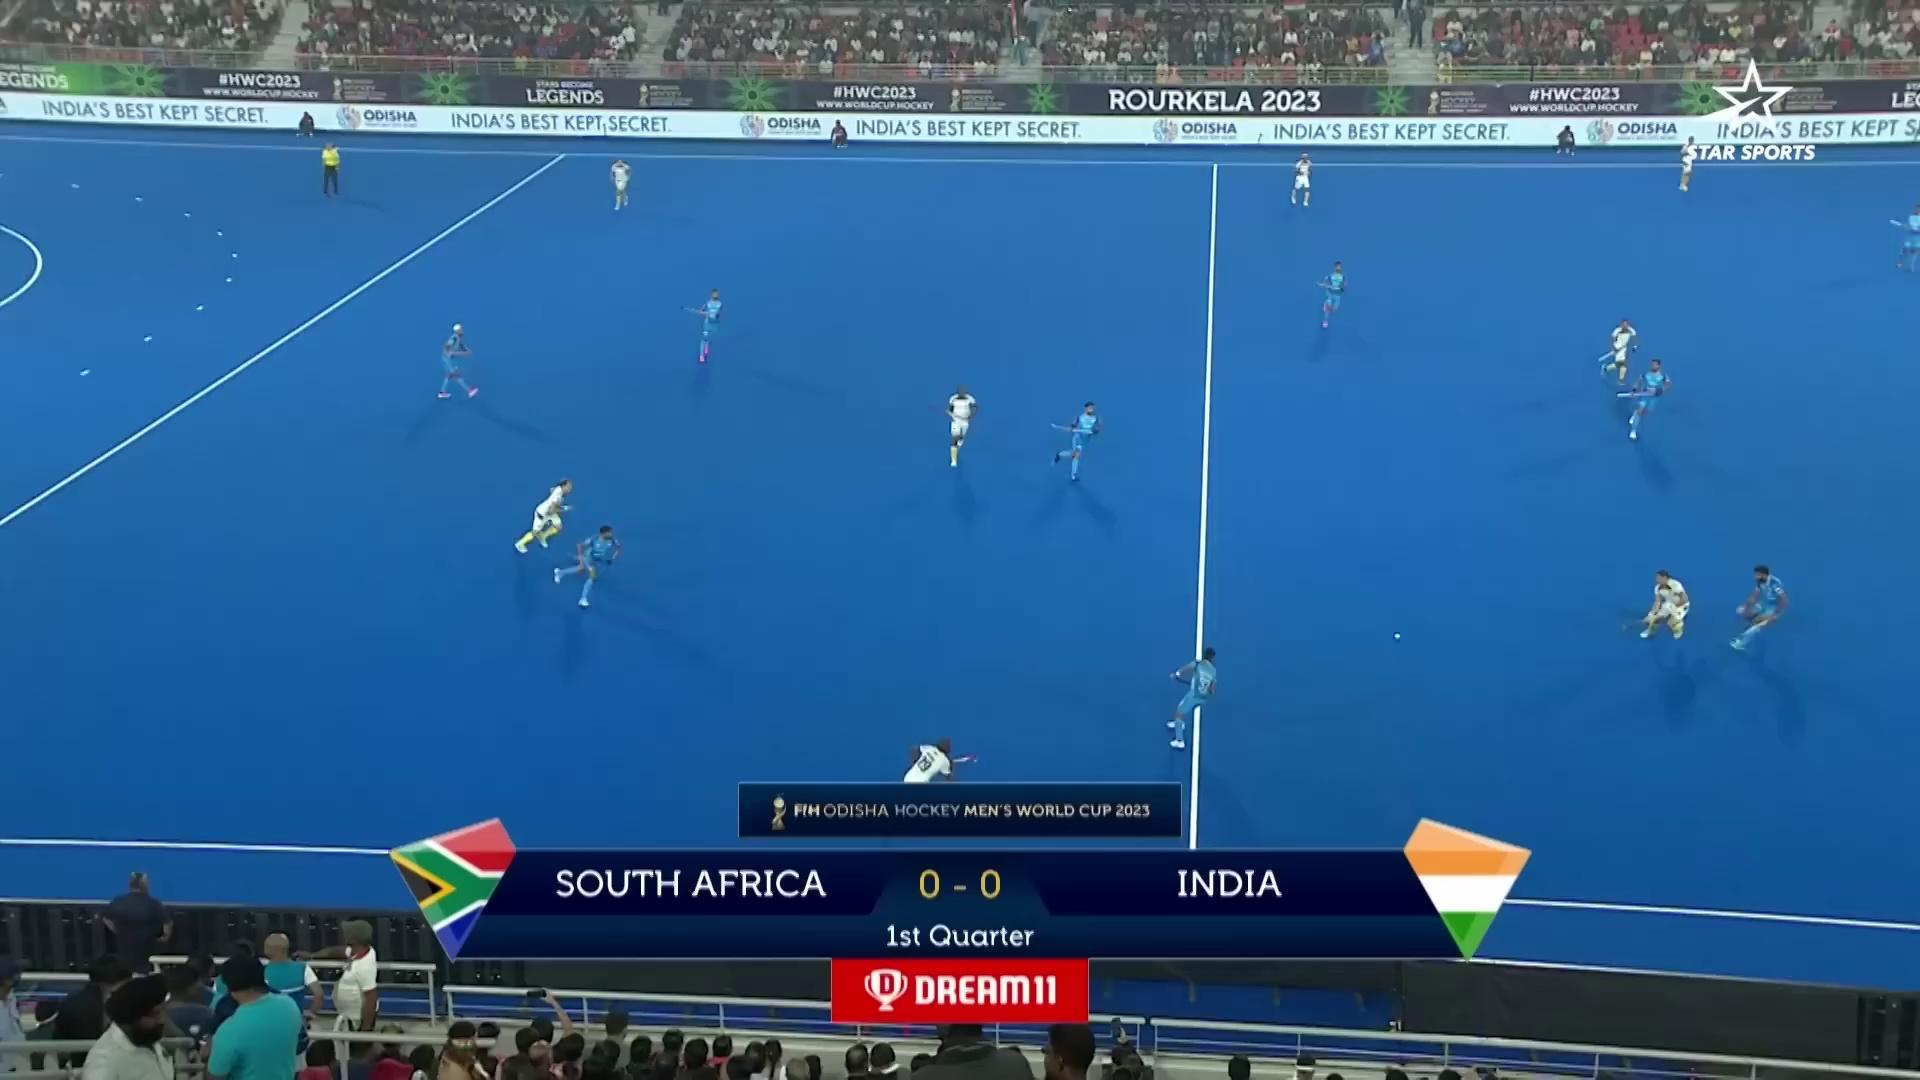ball: (1391, 632, 1403, 642)
